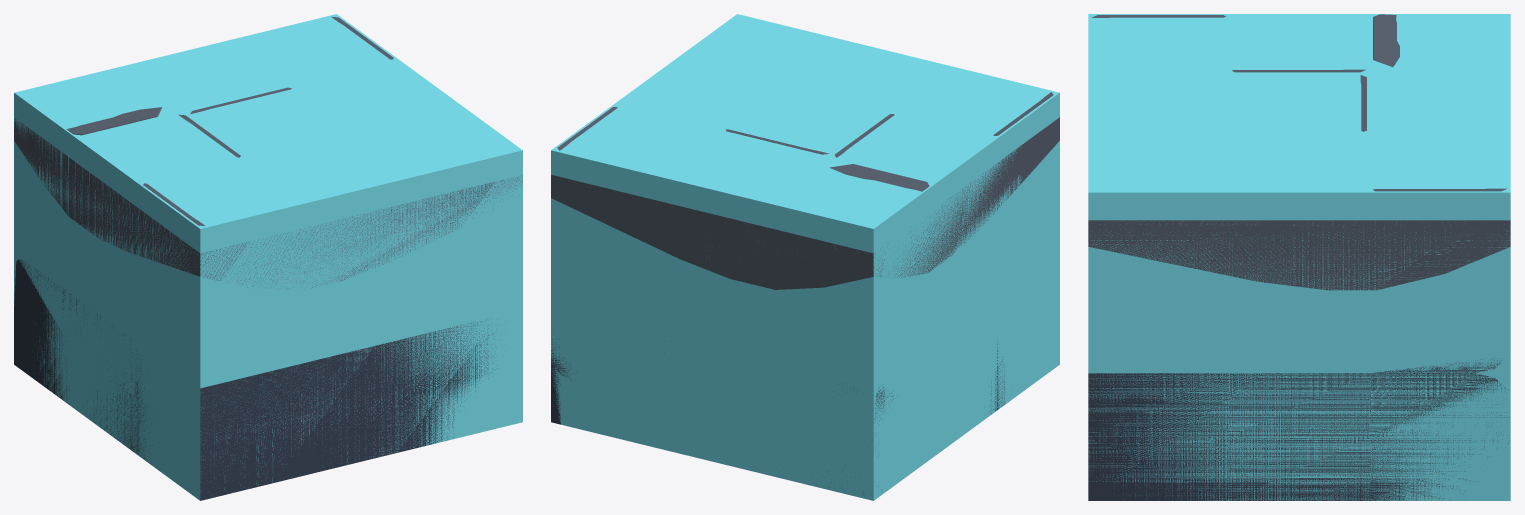
The model's file is PBOX33_FLA_02.FBX.
3 views of the same model, side by side, from view 1: azimuth 30°, elevation 25°; view 2: azimuth 150°, elevation 25°; view 3: azimuth 270°, elevation 25° (orthographic). The views are drawn at different scales.
Parts seen in each view (by area): view 1: PBOX33_FLA_02, PBOX33_SUB_TAB_FlA_003, PBOX33_SUB_FLA_004; view 2: PBOX33_FLA_02, PBOX33_SUB_FLA_004, PBOX33_SUB_TAB_FlA_003; view 3: PBOX33_FLA_02, PBOX33_SUB_TAB_FlA_003, PBOX33_SUB_FLA_004.
Boxes of the visible parts, bbox=[...] form: PBOX33_FLA_02: bbox=[14, 14, 522, 500]; PBOX33_SUB_TAB_FlA_003: bbox=[14, 259, 495, 500]; PBOX33_SUB_FLA_004: bbox=[14, 16, 522, 288]; PBOX33_FLA_02: bbox=[551, 14, 1059, 500]; PBOX33_SUB_FLA_004: bbox=[551, 92, 1059, 289]; PBOX33_SUB_TAB_FlA_003: bbox=[551, 337, 1005, 493]; PBOX33_FLA_02: bbox=[1088, 14, 1510, 500]; PBOX33_SUB_TAB_FlA_003: bbox=[1088, 358, 1509, 500]; PBOX33_SUB_FLA_004: bbox=[1088, 14, 1510, 290].
Bounding box in the file's own units: 18 × 14.55 × 18.
